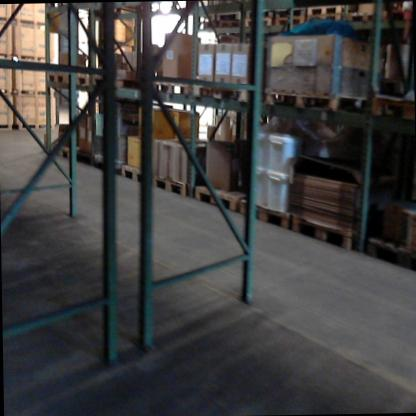pallet: (257, 82, 378, 116), (291, 210, 358, 254), (236, 195, 304, 233), (188, 183, 246, 215), (212, 78, 255, 108), (369, 90, 412, 119), (151, 76, 193, 101), (91, 152, 125, 182), (93, 72, 137, 95), (146, 171, 186, 196), (119, 162, 150, 186), (189, 75, 213, 105), (302, 6, 361, 17), (70, 147, 97, 170), (48, 143, 75, 162), (42, 70, 70, 88), (348, 12, 390, 24), (69, 71, 91, 93), (213, 16, 241, 33), (305, 15, 346, 26), (244, 18, 276, 30), (273, 17, 306, 28), (198, 21, 218, 34)
